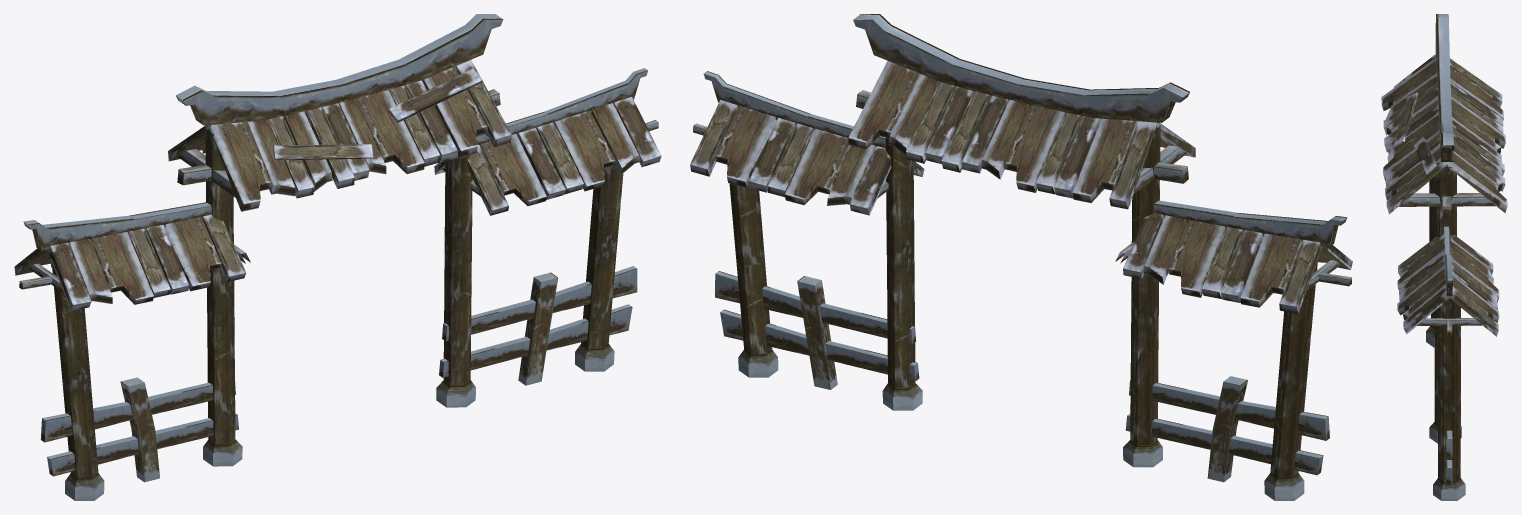
3 renders of one model, left to right at view 1: azimuth 30°, elevation 25°; view 2: azimuth 150°, elevation 25°; view 3: azimuth 270°, elevation 25°, orthographic. The views are drawn at different scales.
Visible parts, largest first — view 1: Combined_Mesh_root_scene_2_Mesh_polySurface3882; view 2: Combined_Mesh_root_scene_2_Mesh_polySurface3882; view 3: Combined_Mesh_root_scene_2_Mesh_polySurface3882.
Boxes of the visible parts, <box> form: Combined_Mesh_root_scene_2_Mesh_polySurface3882: <box>14,14,661,500</box>; Combined_Mesh_root_scene_2_Mesh_polySurface3882: <box>690,14,1352,500</box>; Combined_Mesh_root_scene_2_Mesh_polySurface3882: <box>1381,14,1507,500</box>.
Size of the model in its own units: 12.84 by 7.19 by 2.62.
